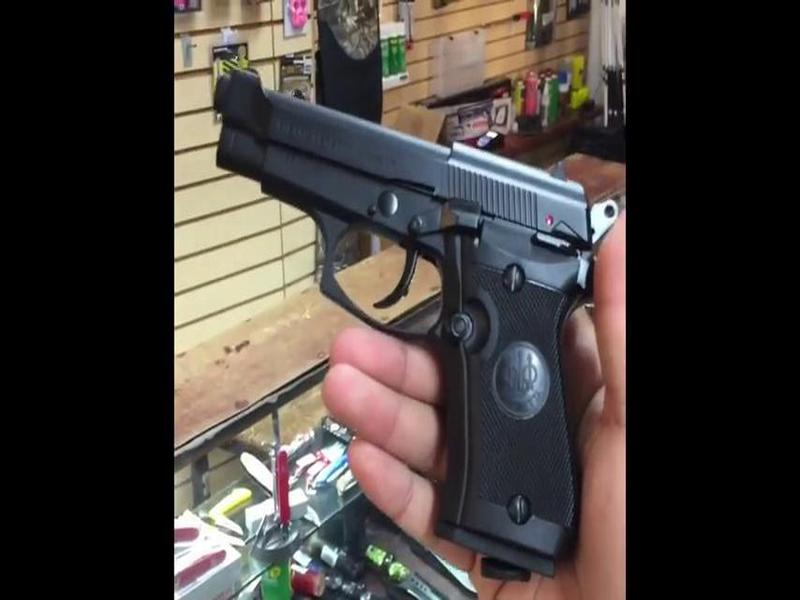Pistola: (194, 55, 616, 576)
